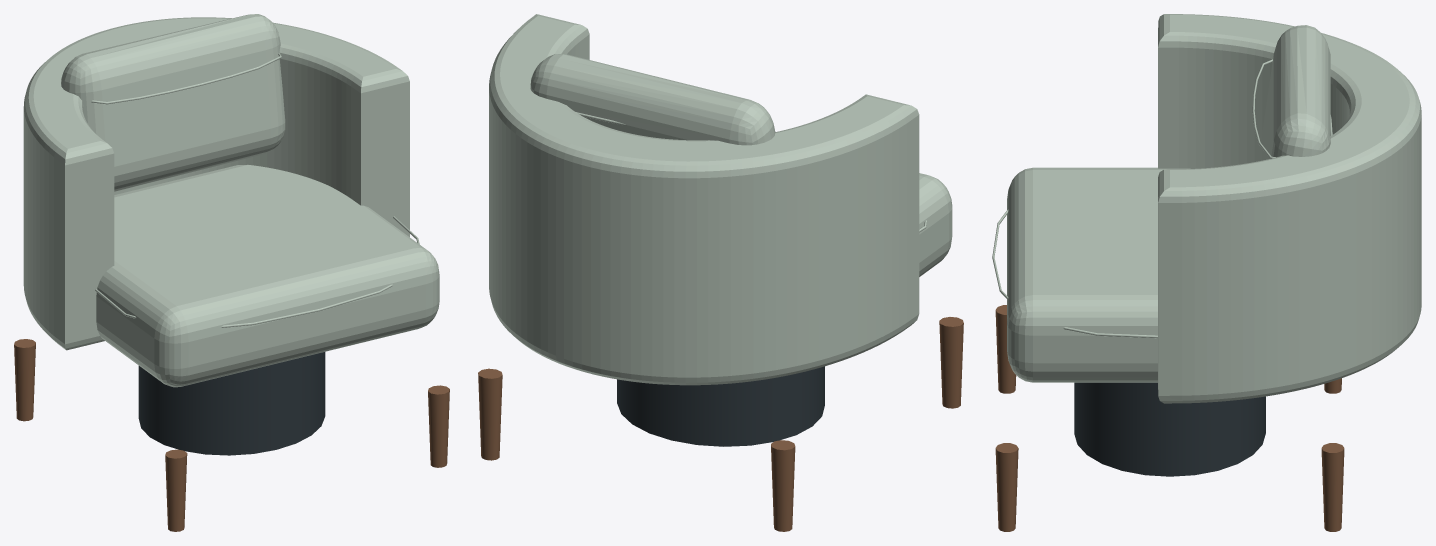
File: chair-1-1.glb
3 renders of one model, left to right at view 1: azimuth 30°, elevation 25°; view 2: azimuth 150°, elevation 25°; view 3: azimuth 270°, elevation 25°, orthographic. The views are drawn at different scales.
Parts seen in each view (by area): view 1: tailored-cushion, part (×2); view 2: tailored-cushion, part (×2); view 3: tailored-cushion, part (×2).
Boxes of the visible parts, box(x1,y1,x2,y2) form: tailored-cushion: box(23, 14, 439, 387); part (×2): box(14, 339, 449, 531); tailored-cushion: box(489, 14, 952, 385); part (×2): box(478, 317, 963, 531); tailored-cushion: box(992, 14, 1421, 403); part (×2): box(995, 305, 1344, 531).
Size of the model in its own units: 1 by 1 by 1.
